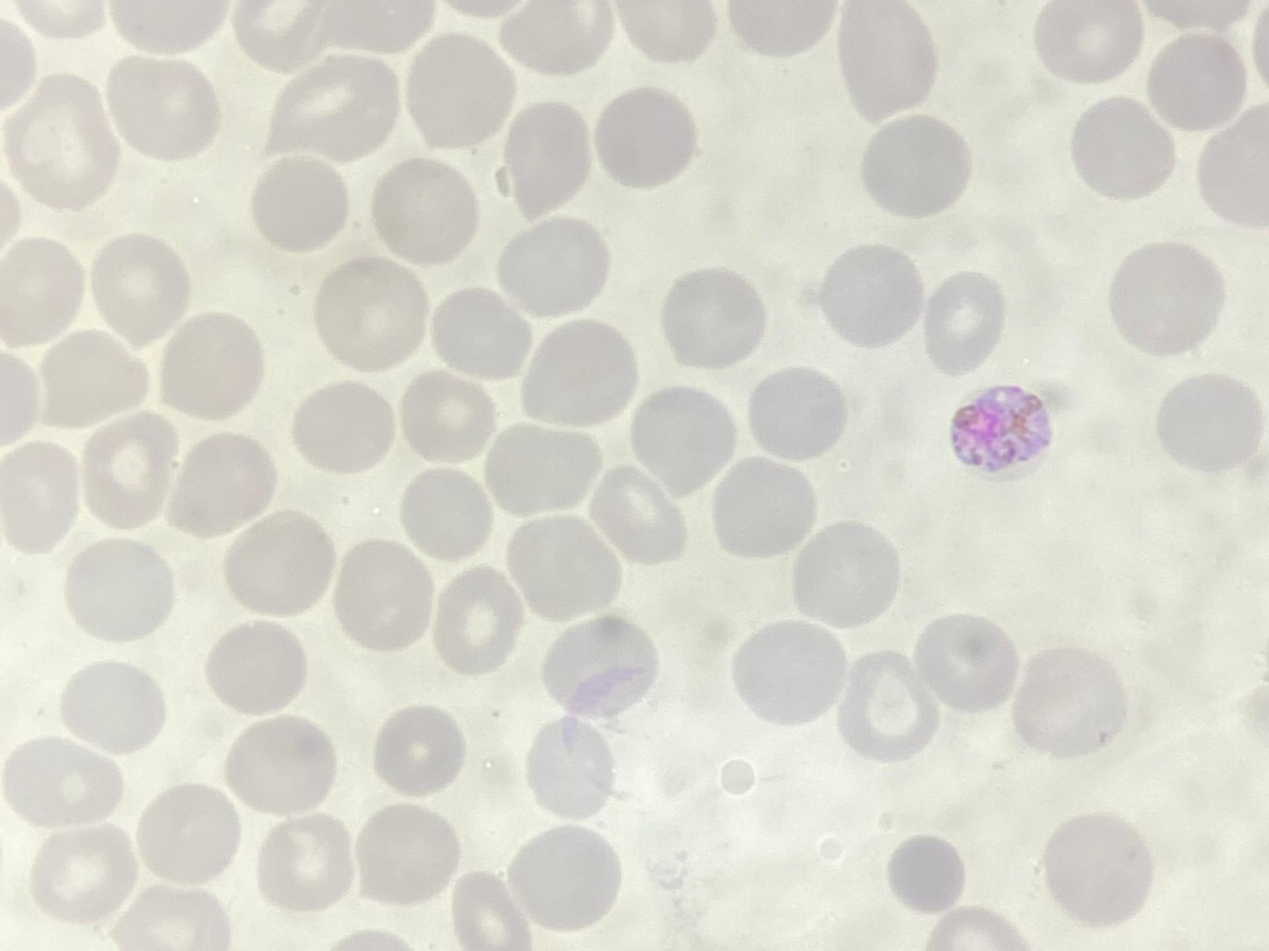Infected: (945, 379, 1054, 476)
Uninfected: (7, 73, 118, 210), (266, 56, 403, 167), (503, 509, 624, 619), (313, 256, 429, 369), (405, 34, 517, 151), (520, 319, 638, 430), (1108, 241, 1221, 355), (104, 55, 225, 160), (220, 510, 335, 619), (1013, 646, 1124, 758), (63, 535, 176, 643), (730, 619, 844, 726), (1042, 813, 1151, 924), (166, 428, 278, 536), (540, 615, 655, 720), (838, 1, 939, 120), (4, 731, 124, 831), (484, 419, 604, 519), (332, 537, 438, 650), (506, 825, 619, 931), (80, 412, 182, 528), (859, 113, 970, 219), (36, 326, 149, 430), (222, 713, 336, 816), (791, 521, 900, 628), (371, 157, 482, 262), (354, 803, 464, 908), (135, 780, 243, 886), (91, 233, 194, 344), (836, 653, 939, 764), (500, 100, 597, 217), (159, 312, 266, 418), (498, 215, 609, 317), (630, 385, 735, 492), (711, 455, 818, 560), (594, 87, 699, 191), (819, 243, 923, 348), (1071, 95, 1173, 202), (58, 658, 166, 759), (913, 613, 1019, 715), (206, 619, 315, 718), (26, 825, 137, 922), (1154, 372, 1260, 473), (661, 266, 765, 367), (292, 379, 399, 477), (428, 284, 533, 383), (250, 154, 352, 254), (588, 462, 690, 562), (397, 368, 500, 466), (1145, 32, 1245, 132), (0, 234, 87, 347), (748, 366, 847, 465), (256, 814, 357, 911), (432, 568, 526, 671), (399, 467, 497, 564), (526, 718, 619, 819), (372, 705, 468, 800), (0, 439, 82, 549), (1035, 1, 1141, 83), (1198, 103, 1268, 227), (498, 2, 611, 76), (923, 271, 1006, 371), (109, 884, 228, 951), (235, 3, 334, 69), (887, 833, 966, 914), (450, 872, 532, 948), (618, 1, 715, 63)
